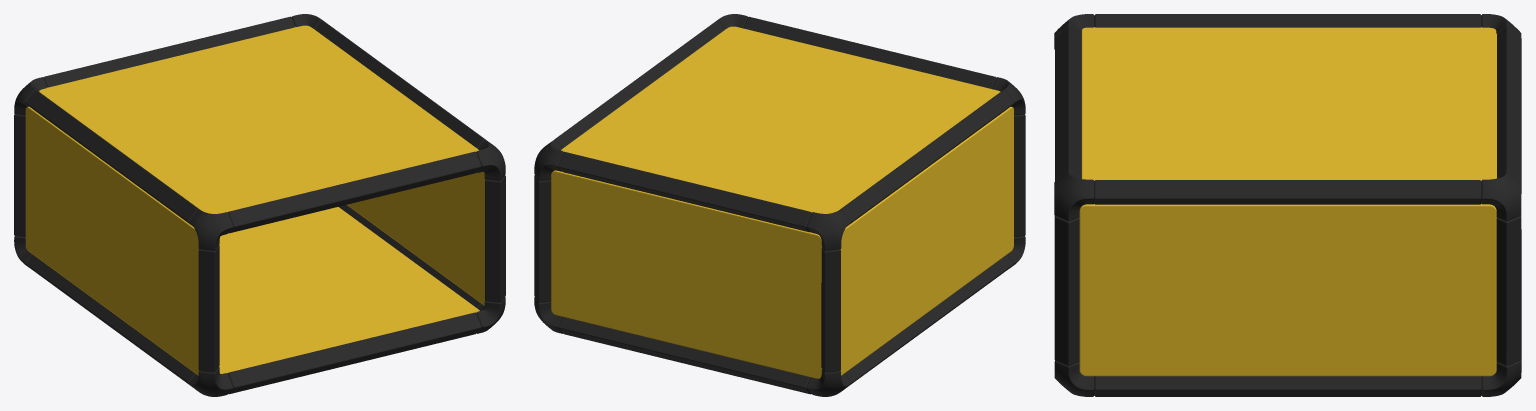
3 views of the same model, side by side, from view 1: azimuth 30°, elevation 25°; view 2: azimuth 150°, elevation 25°; view 3: azimuth 270°, elevation 25° (orthographic). The views are drawn at different scales.
Parts seen in each view (by area): view 1: 329x374x154; view 2: 329x374x154; view 3: 329x374x154.
Boxes of the visible parts, x1,y1,x2,y2 form: 329x374x154: [14, 14, 505, 396]; 329x374x154: [534, 14, 1025, 396]; 329x374x154: [1054, 14, 1521, 396].
Size of the model in its own units: 0.4067 by 0.2316 by 0.4513.
